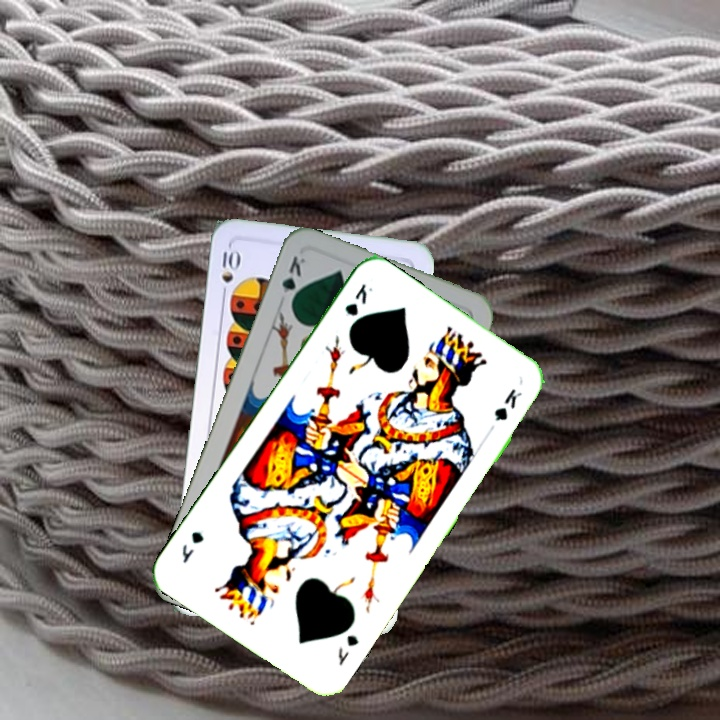GK: (275, 251, 308, 309), (340, 279, 375, 319), (333, 630, 362, 669)
S10: (218, 245, 241, 302)
